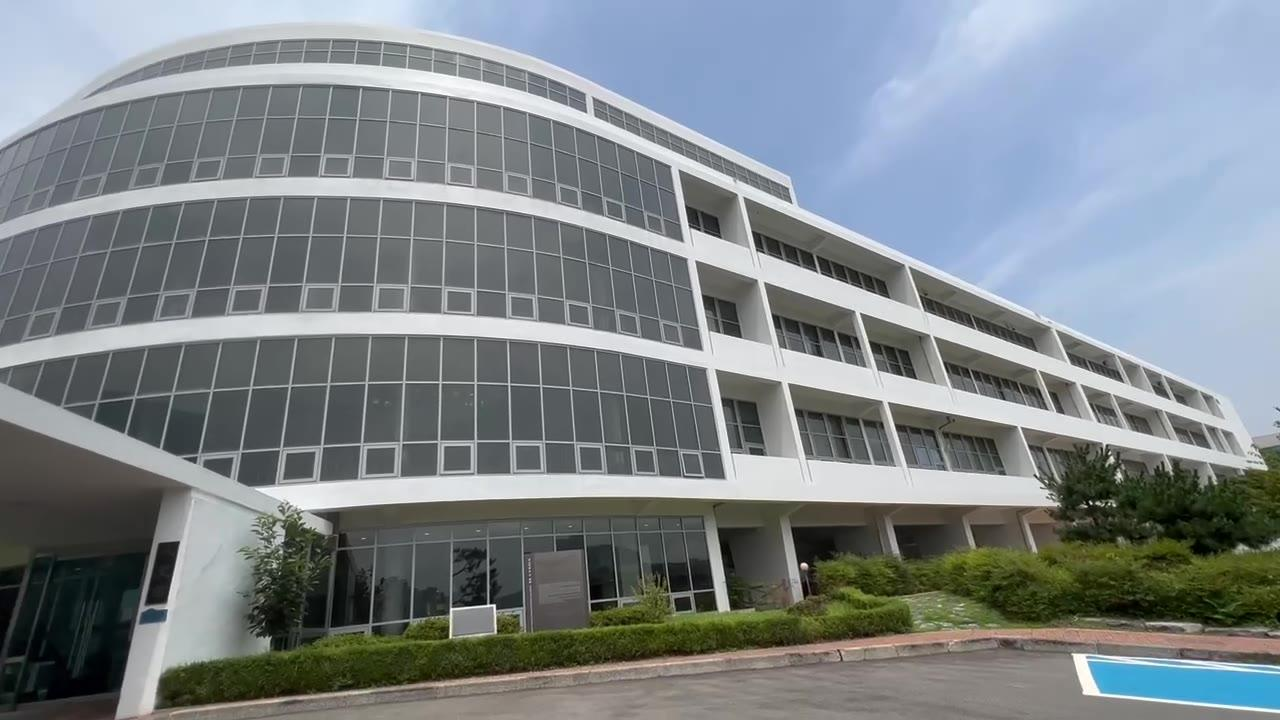building: (130, 9, 947, 540)
